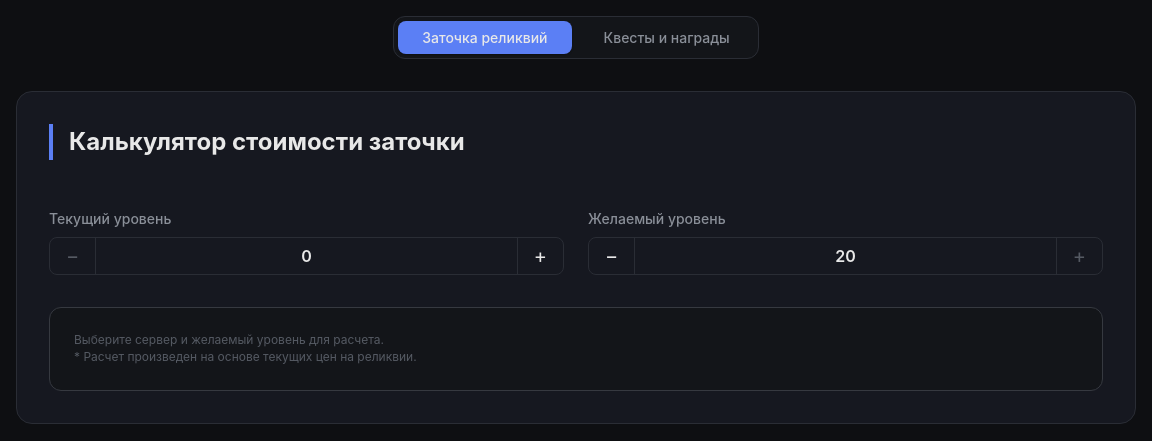
Test: GuidesPage › переключает табы
Check: the heading "Калькулятор стоимости заточки" is shown, box [49,124,1103,160]
Note: Переключаем на квесты
Click the button "Квесты и награды" at (667, 38), box [580,21,754,54]
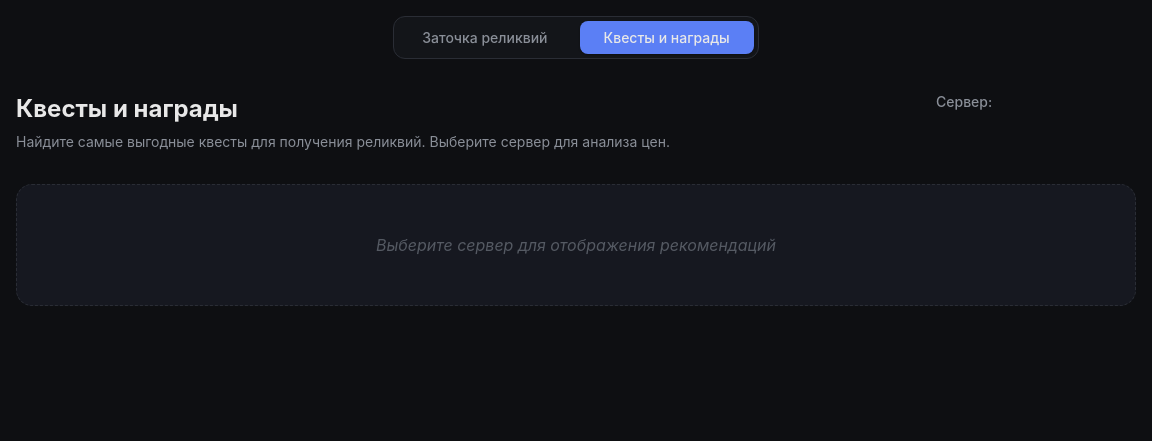
Check: the text "Выберите сервер для отображения рекомендаций" is shown, box [376,235,776,255]
Check: the heading "Калькулятор стоимости заточки" is gone
